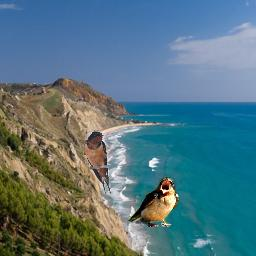Swallow: (127, 177, 179, 227), (83, 131, 111, 195)
